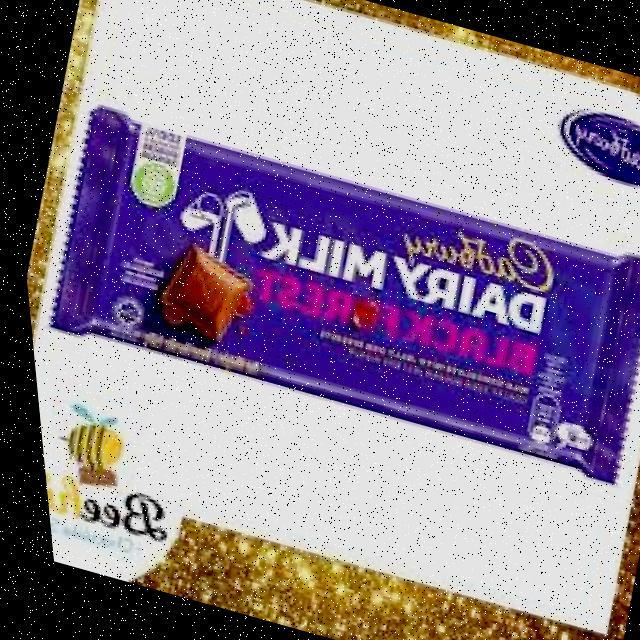cadbury_chocolate: (52, 102, 638, 483)
